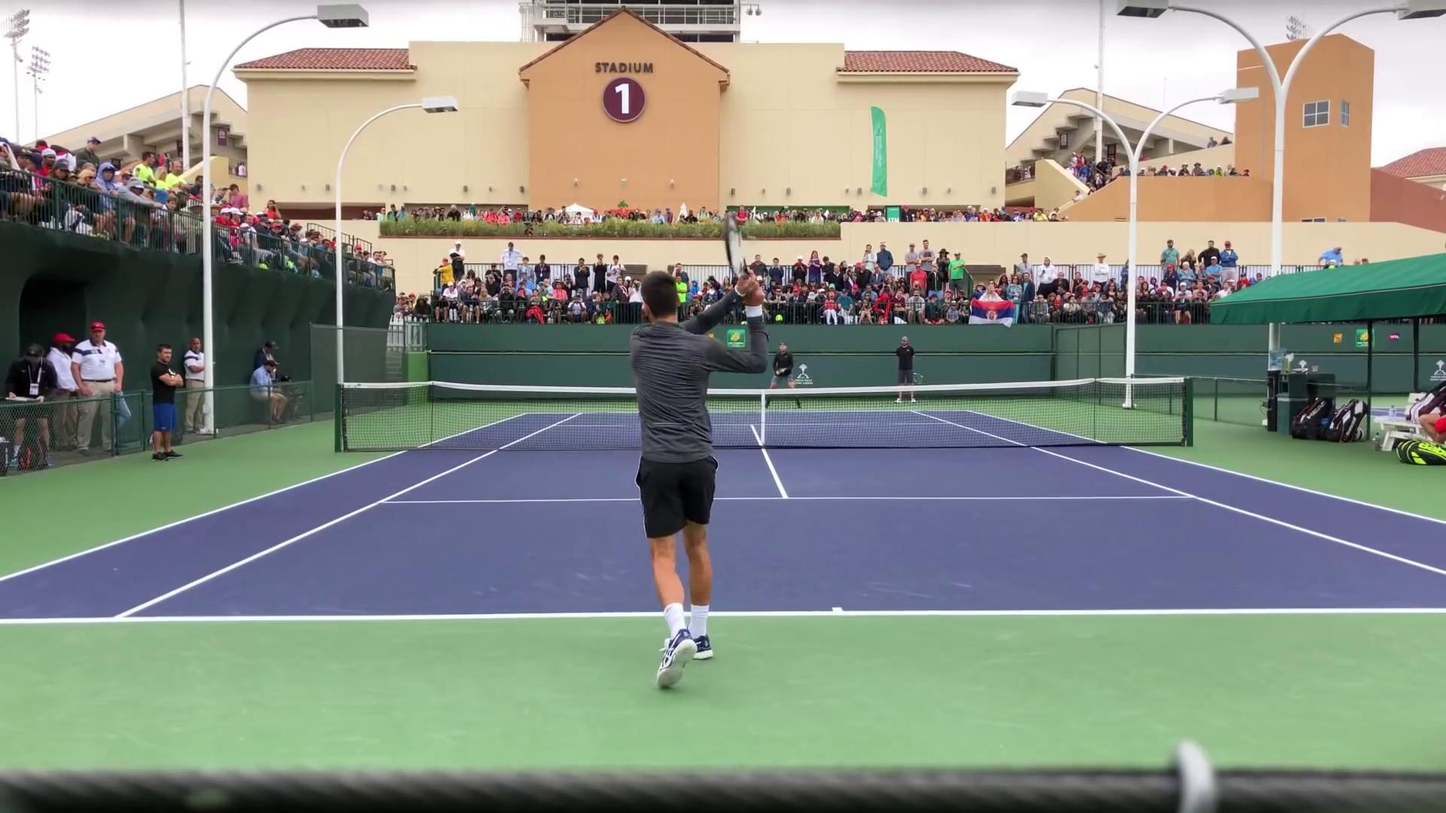ball: (461, 464, 469, 467)
